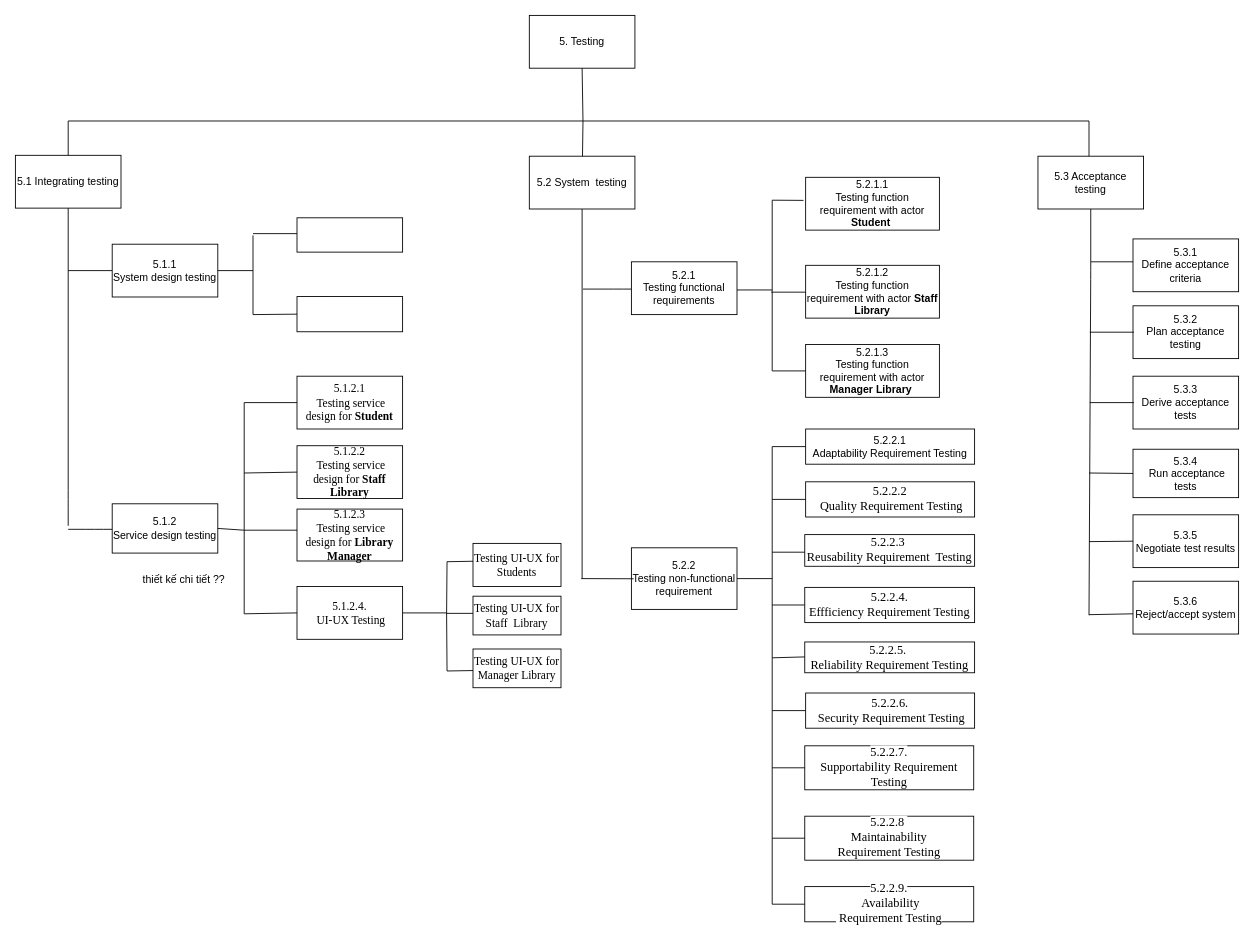
Image size: 1254x942. Some labels were removed from this diagram. The shapes that lost their labels are listed below. From the top down, each one's centre as x and y in pixels, then its label:
[349,234]: 5.1.1.1 Architecture testing
[349,314]: 5.1.1.2 Database testing
